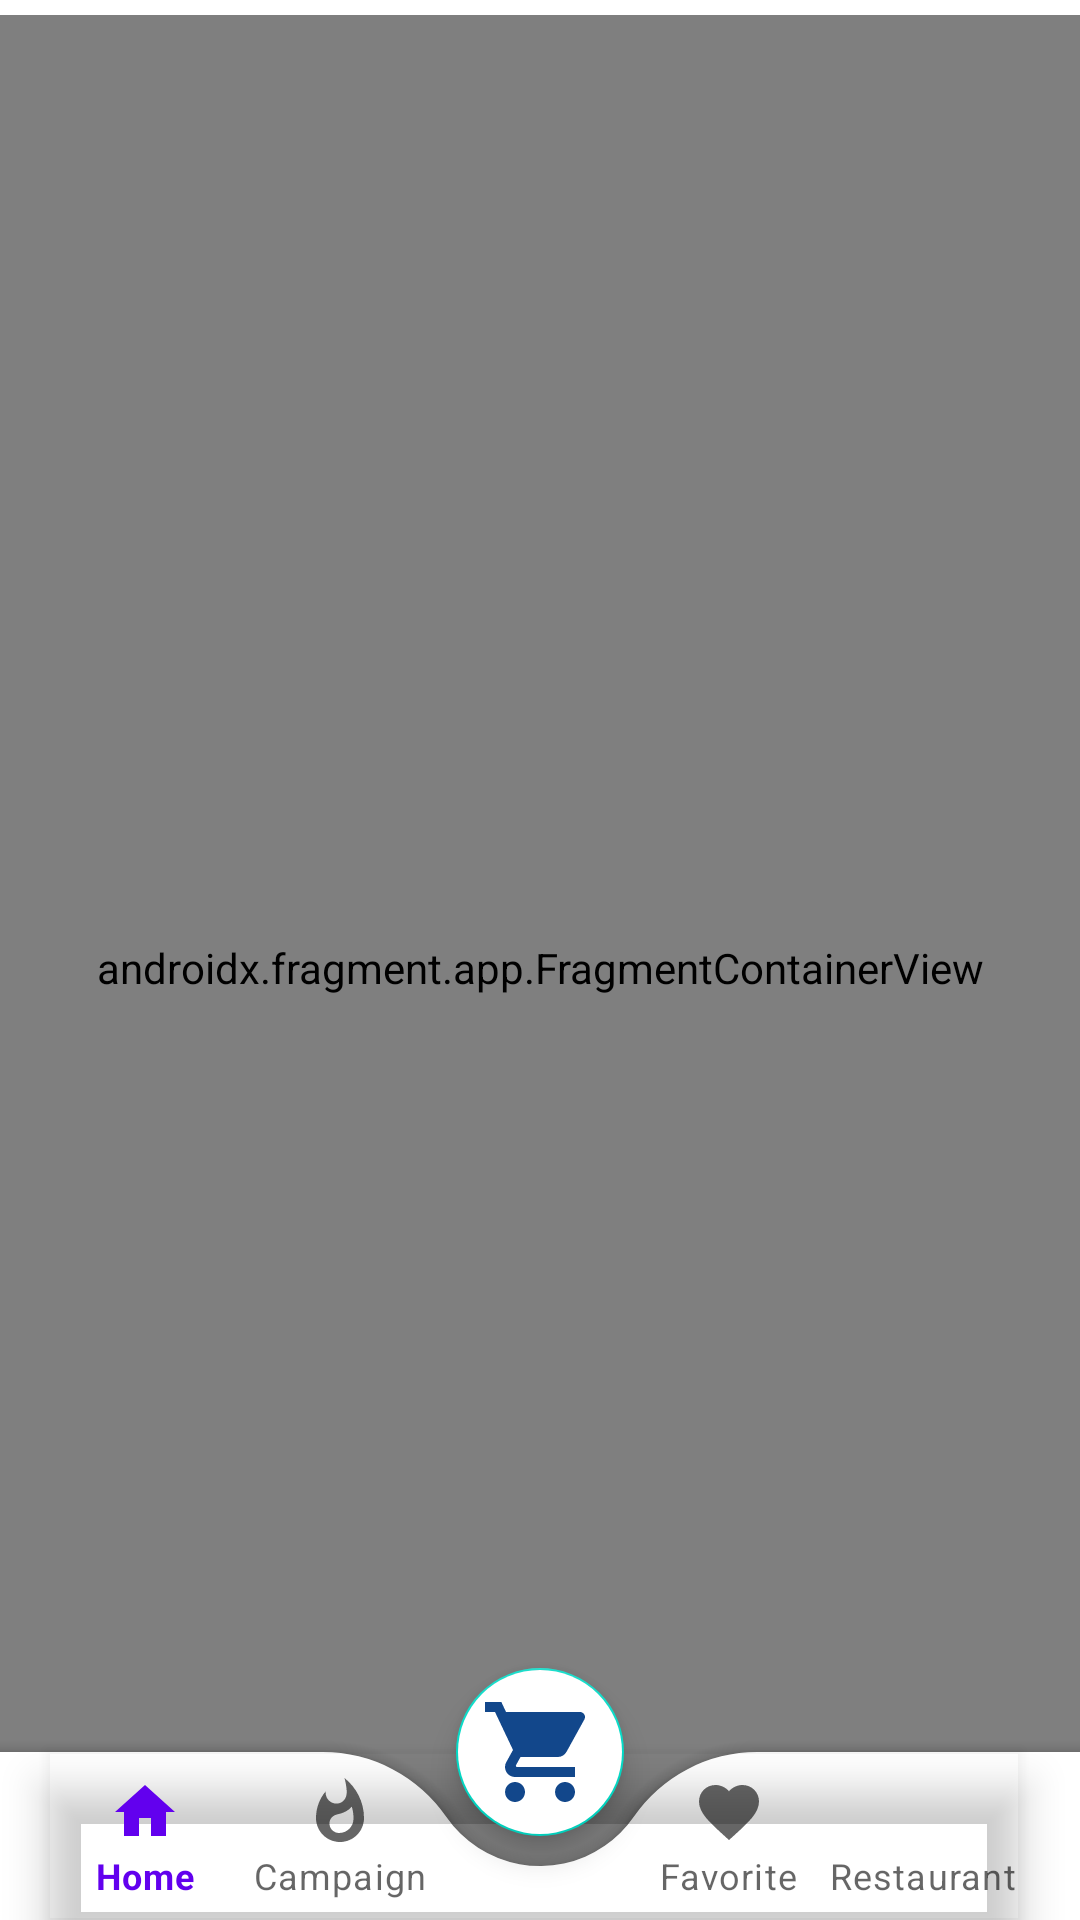

Icons on this 1080 x 1920 Android screen, each with the point to tap as (x=x, y=y):
cart: (x=540, y=1752)
